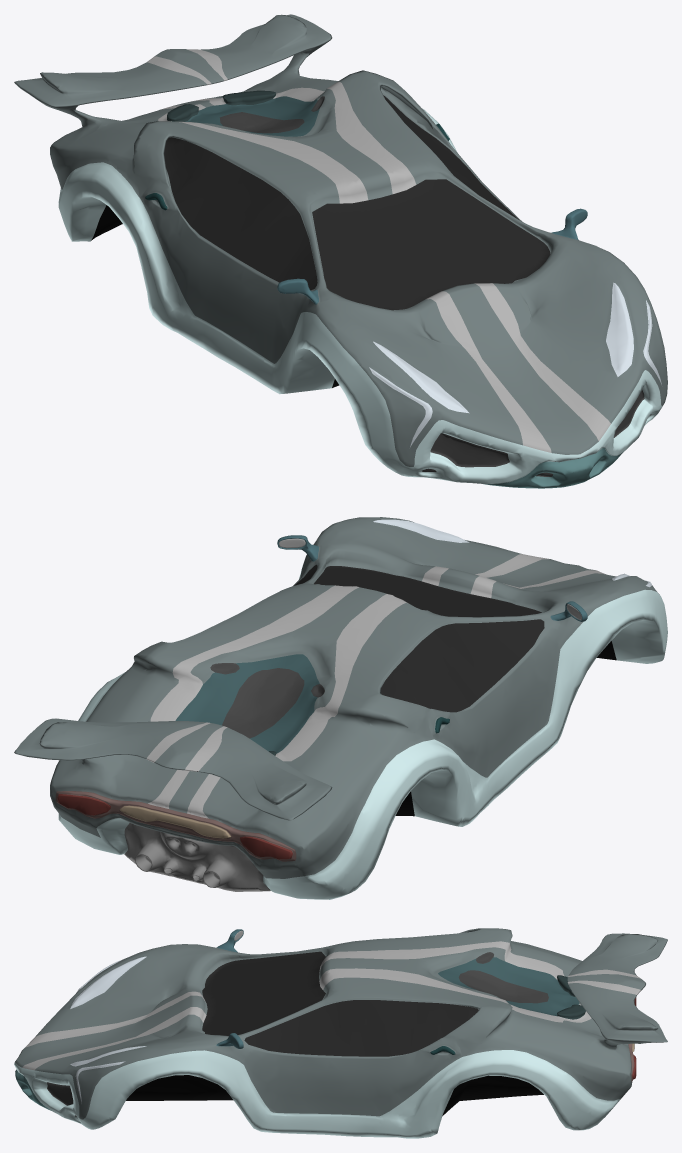
Rendered from Voiture final 16000 UV top 2.fbx.
3 renders of one model, top to bottom at view 1: azimuth 30°, elevation 25°; view 2: azimuth 150°, elevation 25°; view 3: azimuth 270°, elevation 25°, orthographic. The views are drawn at different scales.
Visible parts, largest first — view 1: Voiture_corps_Low_poly_top:Mesh; view 2: Voiture_corps_Low_poly_top:Mesh; view 3: Voiture_corps_Low_poly_top:Mesh.
Part boxes in pixels (x1,y1,x2,y2): Voiture_corps_Low_poly_top:Mesh: (14,14,667,488); Voiture_corps_Low_poly_top:Mesh: (14,517,667,899); Voiture_corps_Low_poly_top:Mesh: (14,928,667,1138).
Size of the model in its own units: 8.43 by 4.2 by 19.42.
